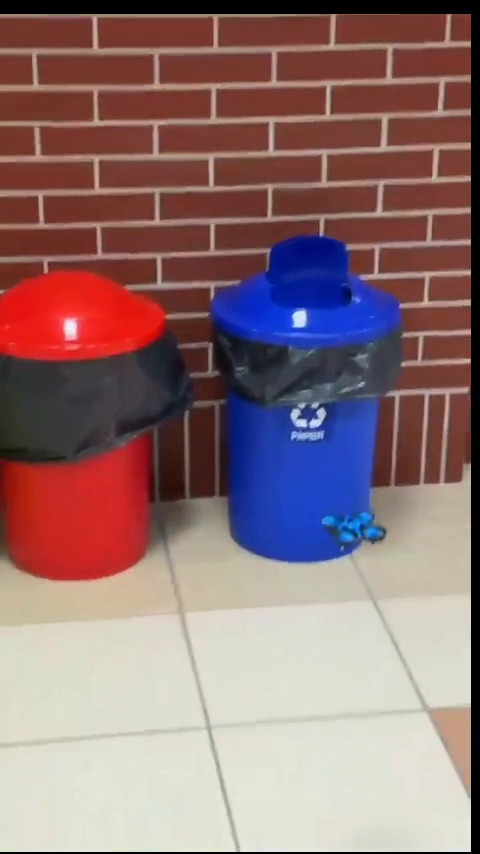drone: (320, 512, 389, 552)
